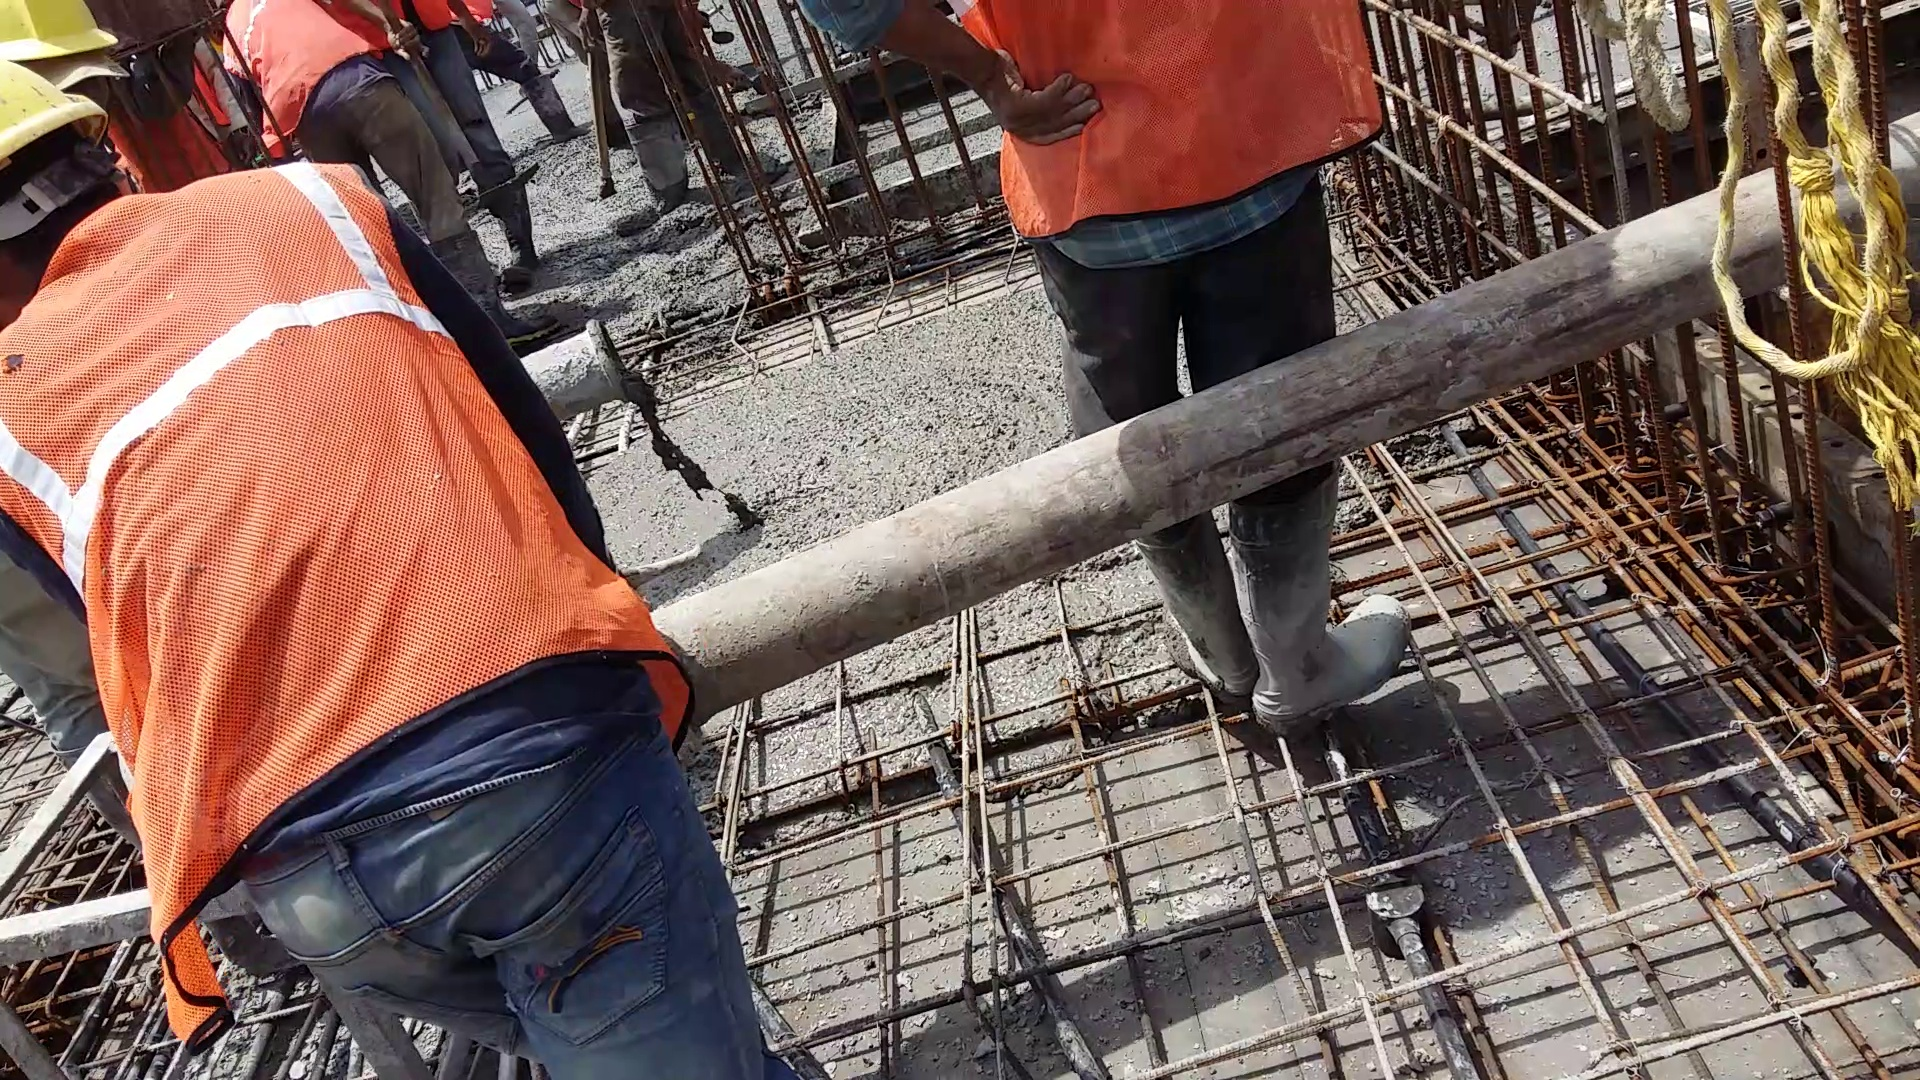SAFE: (4, 51, 363, 849)
